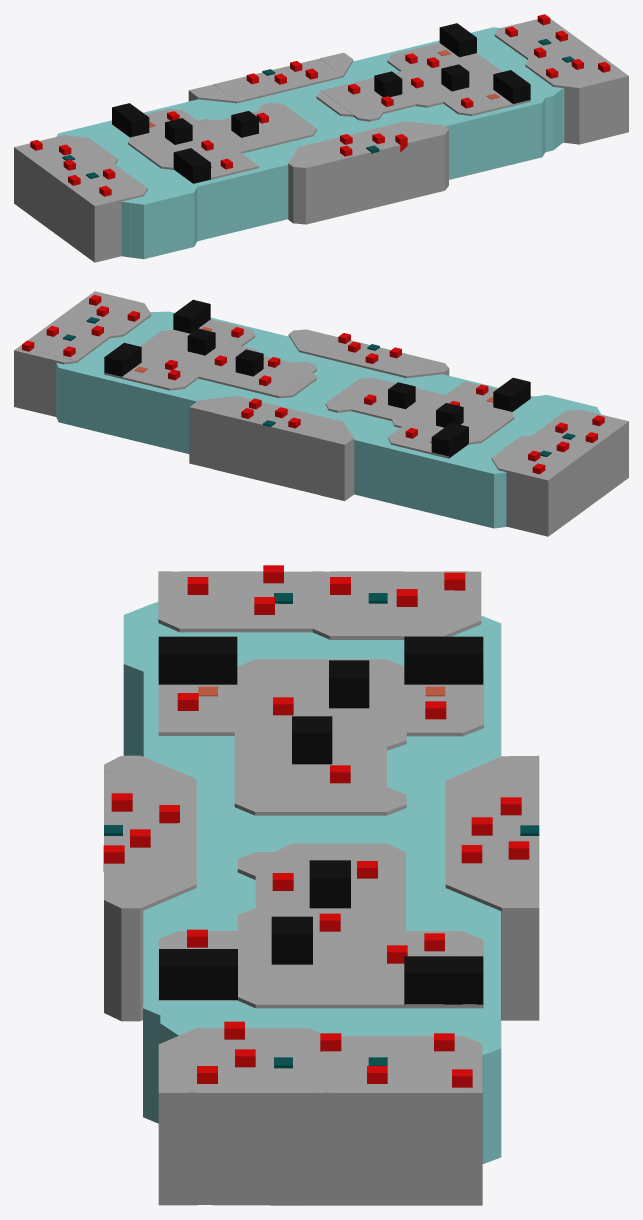
File: Room5_FRScale.fbx
3 renders of one model, top to bottom at view 1: azimuth 30°, elevation 25°; view 2: azimuth 150°, elevation 25°; view 3: azimuth 270°, elevation 25°, orthographic. The views are drawn at different scales.
Parts seen in each view (by area): view 1: Ice48, Floor60, Ice44, Floor77, Floor71, Ice49, Floor84, Floor72, Floor75, Ice46, Floor64, Floor73 (+26 smaller); view 2: Ice45, Ice44, Floor64, Floor77, Floor84, Floor72, Floor76, Floor75, Floor68, Floor60, Ice46, Floor66 (+23 smaller); view 3: Ice44, Floor67, Floor70, Floor77, Floor84, Floor60, Ice46, Floor64, Ice45, Floor72, Floor75, Floor71 (+28 smaller).
Part boxes in pixels (x1=…): Ice48: x1=121, y1=98, x2=545, y2=257; Floor60: x1=298, y1=121, x2=444, y2=222; Ice44: x1=95, y1=42, x2=564, y2=189; Floor77: x1=321, y1=53, x2=502, y2=119; Floor71: x1=553, y1=69, x2=628, y2=144; Ice49: x1=131, y1=187, x2=197, y2=259; Floor84: x1=128, y1=104, x2=316, y2=168; Floor72: x1=56, y1=164, x2=147, y2=258; Floor75: x1=23, y1=138, x2=117, y2=230; Ice46: x1=68, y1=31, x2=502, y2=141; Floor64: x1=213, y1=58, x2=343, y2=103; Floor73: x1=89, y1=188, x2=147, y2=262; Ice45: x1=56, y1=363, x2=505, y2=528; Ice44: x1=86, y1=312, x2=562, y2=455; Floor64: x1=213, y1=396, x2=343, y2=494; Floor77: x1=140, y1=331, x2=316, y2=398; Floor84: x1=326, y1=379, x2=514, y2=442; Floor72: x1=532, y1=411, x2=623, y2=505; Floor76: x1=491, y1=457, x2=557, y2=536; Floor75: x1=492, y1=437, x2=585, y2=529; Floor68: x1=14, y1=347, x2=76, y2=416; Floor60: x1=299, y1=329, x2=436, y2=378; Ice46: x1=56, y1=356, x2=506, y2=526; Floor66: x1=320, y1=422, x2=354, y2=501; Ice44: x1=180, y1=632, x2=429, y2=1035; Floor67: x1=329, y1=1035, x2=463, y2=1205; Floor70: x1=197, y1=1028, x2=309, y2=1205; Floor77: x1=255, y1=852, x2=405, y2=1008; Floor84: x1=255, y1=659, x2=386, y2=815; Floor60: x1=104, y1=772, x2=196, y2=899; Ice46: x1=426, y1=616, x2=483, y2=1163; Floor64: x1=445, y1=780, x2=539, y2=888; Ice45: x1=483, y1=616, x2=501, y2=1163; Floor72: x1=179, y1=571, x2=312, y2=632; Floor75: x1=330, y1=571, x2=443, y2=639; Floor71: x1=158, y1=1028, x2=197, y2=1205.
Size of the model in its own units: 107 by 13.74 by 37.67.
